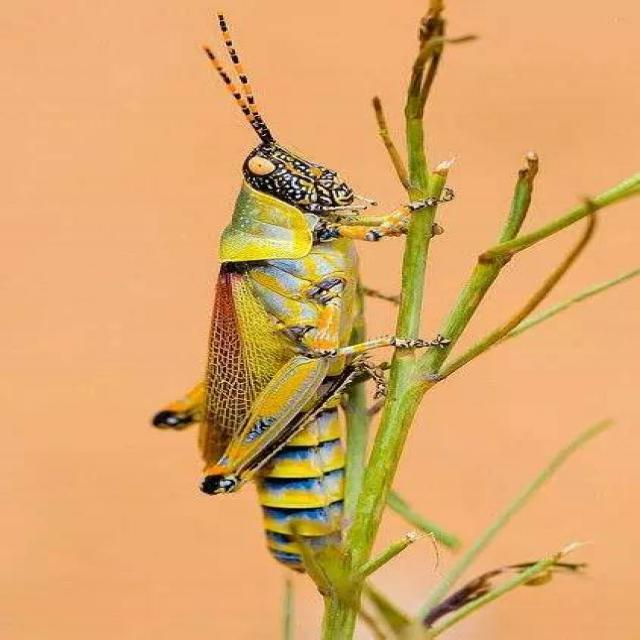ZhaMeng: (135, 10, 419, 597)
